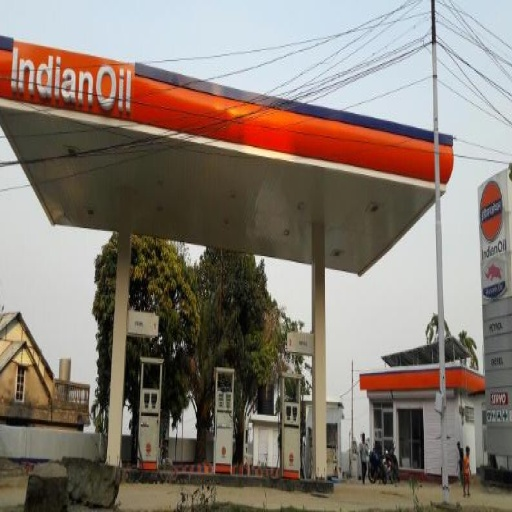roof: (1, 32, 455, 282)
